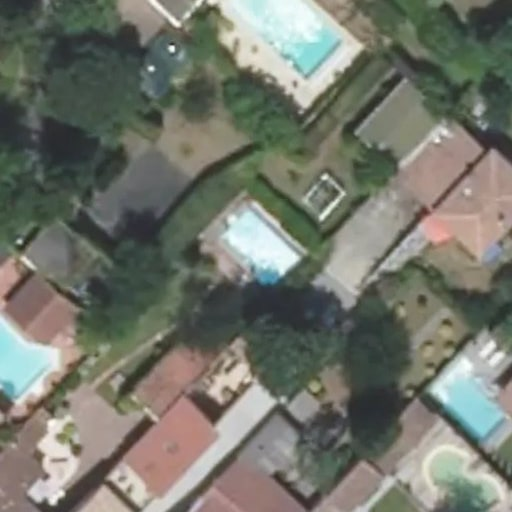pool: (219, 1, 354, 85), (216, 208, 302, 290), (427, 361, 505, 450), (1, 314, 56, 407)
